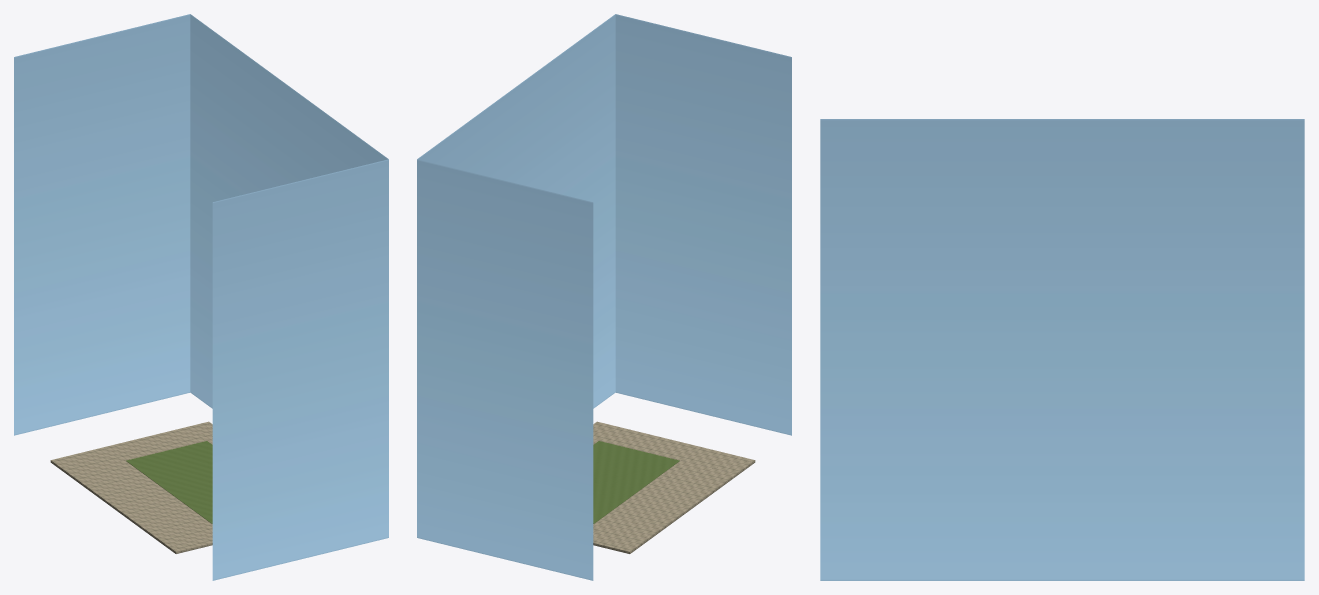
File: quadrangle_ground.glb
The picture shows the model from 3 angles, left to right: view 1: azimuth 30°, elevation 25°; view 2: azimuth 150°, elevation 25°; view 3: azimuth 270°, elevation 25°; orthographic projection. The views are drawn at different scales.
Parts seen in each view (by area): view 1: Courtyard sky backdrop, Continuous paved quadrangle perimeter, Rectangular central lawn; view 2: Courtyard sky backdrop, Continuous paved quadrangle perimeter, Rectangular central lawn; view 3: Courtyard sky backdrop.
Part boxes in pixels (x1,y1,x2,y2): Courtyard sky backdrop: (14,14,388,580); Continuous paved quadrangle perimeter: (50,421,212,553); Rectangular central lawn: (126,441,212,523); Courtyard sky backdrop: (417,14,791,580); Continuous paved quadrangle perimeter: (593,421,755,553); Rectangular central lawn: (593,441,679,523); Courtyard sky backdrop: (820,119,1304,580).
Size of the model in its own units: 19.5 by 40 by 38.
Materials: 3 (3 with a texture image).
